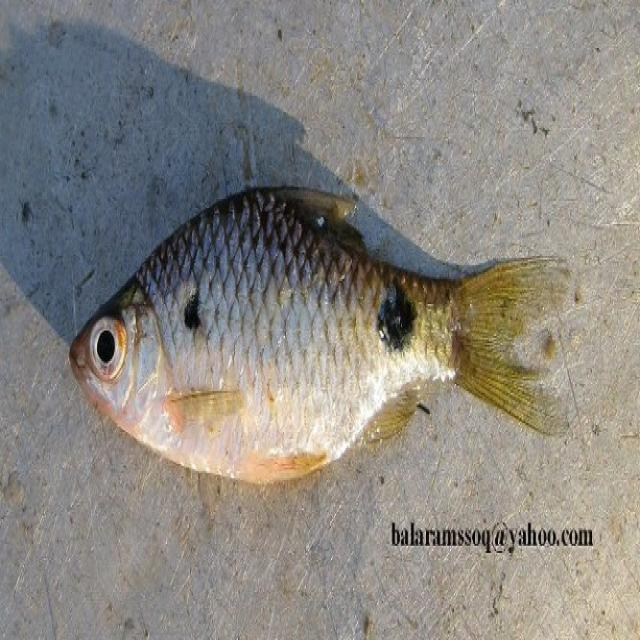Black-Spotted-Barb: (66, 105, 576, 550)
